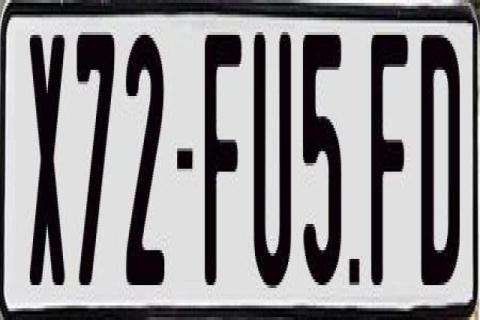0: (126, 26, 170, 288), (301, 32, 343, 300), (73, 26, 111, 288)
D: (421, 29, 459, 288)
F: (368, 32, 406, 294), (204, 27, 240, 280)
U: (253, 24, 293, 294)
X: (30, 27, 68, 286)
